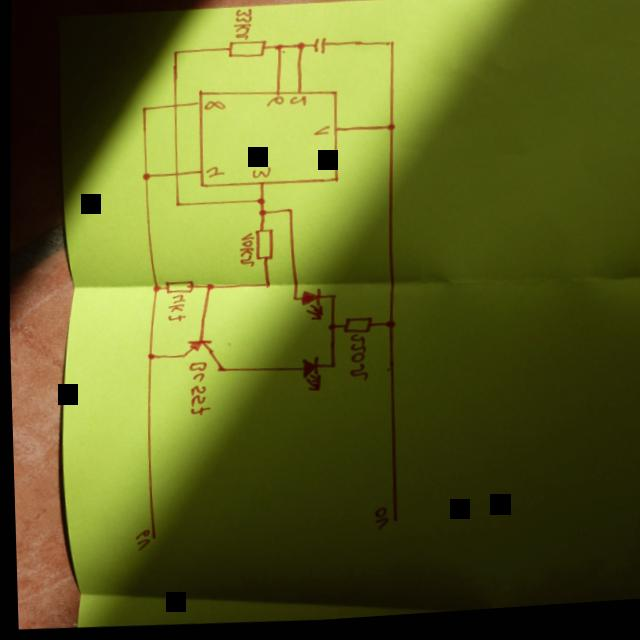capacitor: (310, 39, 327, 58)
crossover: (170, 103, 177, 110), (170, 172, 178, 178)
diode: (297, 290, 322, 324), (297, 358, 319, 395)
junction: (380, 322, 395, 333), (383, 42, 396, 51), (253, 198, 265, 207), (383, 126, 395, 135), (139, 172, 149, 182), (148, 285, 159, 294), (272, 45, 283, 54), (202, 284, 212, 293), (143, 352, 154, 360), (294, 44, 305, 52), (255, 210, 265, 218), (170, 201, 180, 209), (323, 326, 334, 333), (260, 283, 269, 291), (325, 364, 334, 372), (282, 209, 292, 216), (170, 50, 178, 57), (326, 296, 334, 303), (287, 298, 295, 304), (139, 106, 146, 112)
resistor: (225, 40, 267, 61), (250, 229, 272, 263), (338, 318, 371, 337), (160, 279, 193, 295)
terminal: (387, 521, 394, 527), (146, 535, 152, 541)
text: (182, 362, 209, 418), (343, 335, 368, 385), (234, 233, 254, 270), (231, 9, 252, 43), (163, 293, 184, 325), (368, 508, 386, 534), (129, 528, 147, 552), (201, 99, 225, 114), (203, 166, 223, 182), (249, 166, 269, 181), (310, 126, 329, 140), (264, 96, 282, 110), (286, 97, 305, 109)
transistor: (178, 338, 223, 377)
